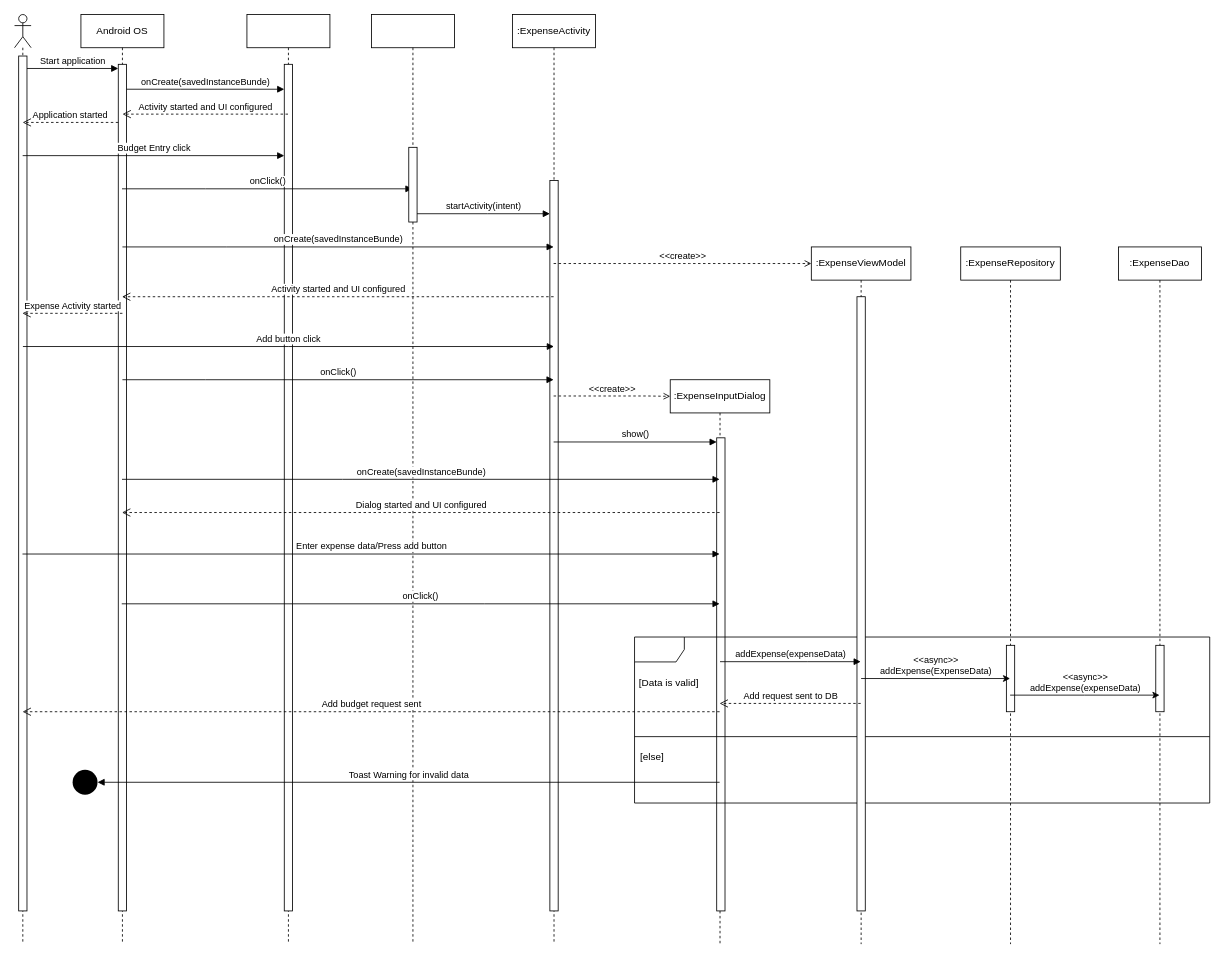
Image size: 1224x959. Some labels were removed from this diagram. The shapes that lost their labels are listed below. From the top down, each one's box as (x1, y1, x2, y2) in pixels, then its label:
(246, 14, 330, 944): :MainActivity
(371, 14, 454, 944): :BudgetAdapter
(634, 636, 1210, 803): alt
